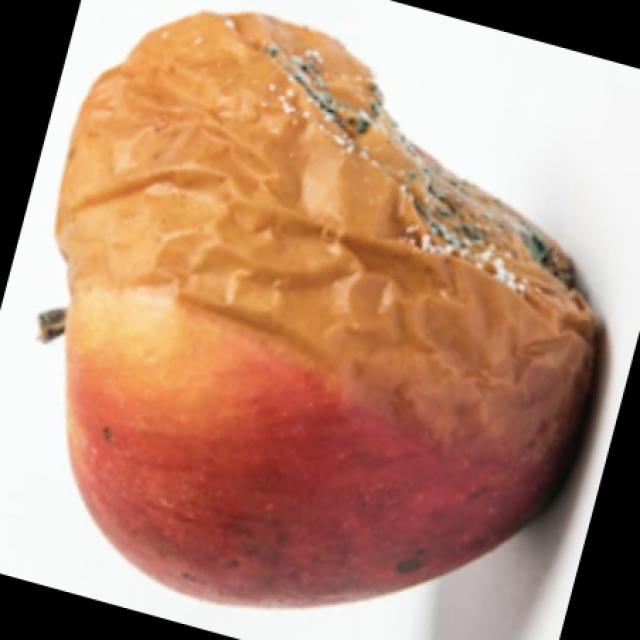Rotten: (32, 28, 600, 602)
